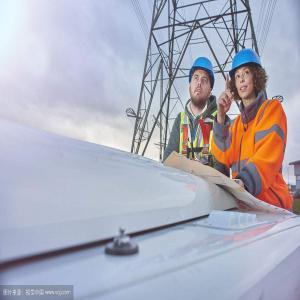blue: (229, 49, 265, 104), (188, 56, 216, 106)
